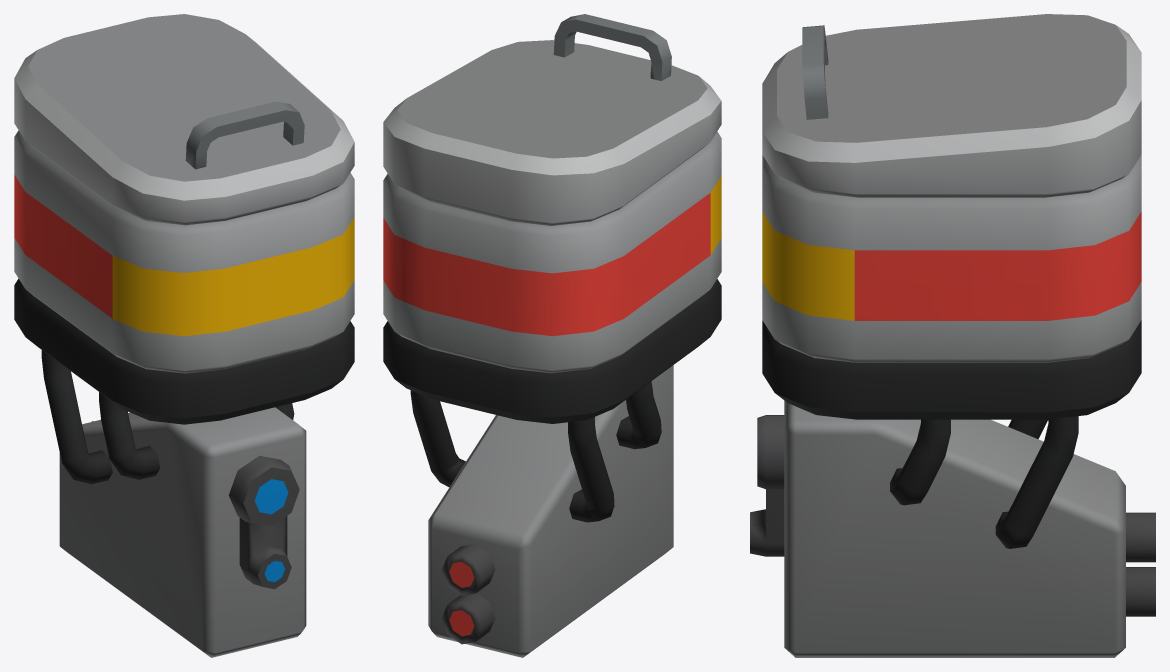
The model's file is Delivery_drone_008.fbx.
3 views of the same model, side by side, from view 1: azimuth 30°, elevation 25°; view 2: azimuth 150°, elevation 25°; view 3: azimuth 270°, elevation 25° (orthographic). The views are drawn at different scales.
Visible parts, largest first — view 1: Delivery_drone_008; view 2: Delivery_drone_008; view 3: Delivery_drone_008.
Boxes of the visible parts, x1=… form: Delivery_drone_008: x1=14, y1=14, x2=354, y2=657; Delivery_drone_008: x1=383, y1=14, x2=721, y2=657; Delivery_drone_008: x1=750, y1=14, x2=1155, y2=657.
Size of the model in its own units: 44.33 by 60.47 by 96.88.
